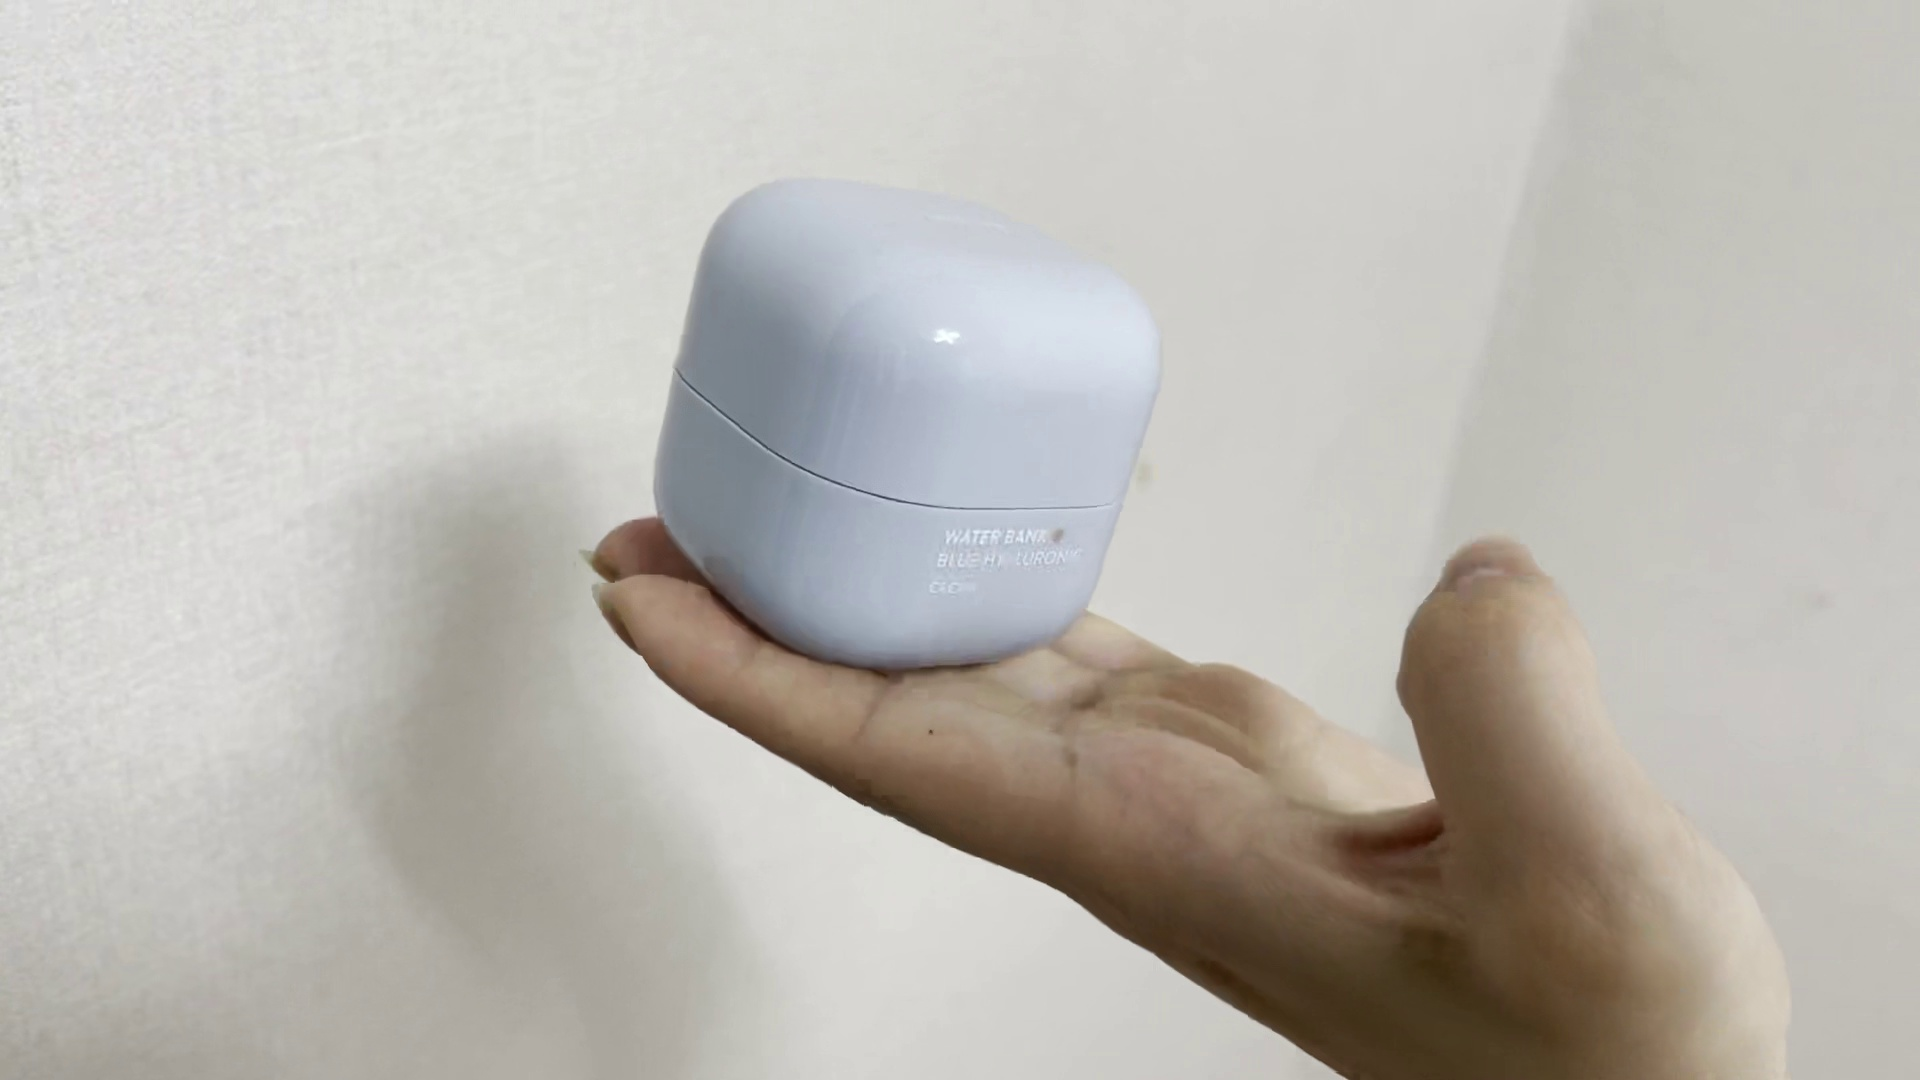cream: (646, 171, 1164, 666)
